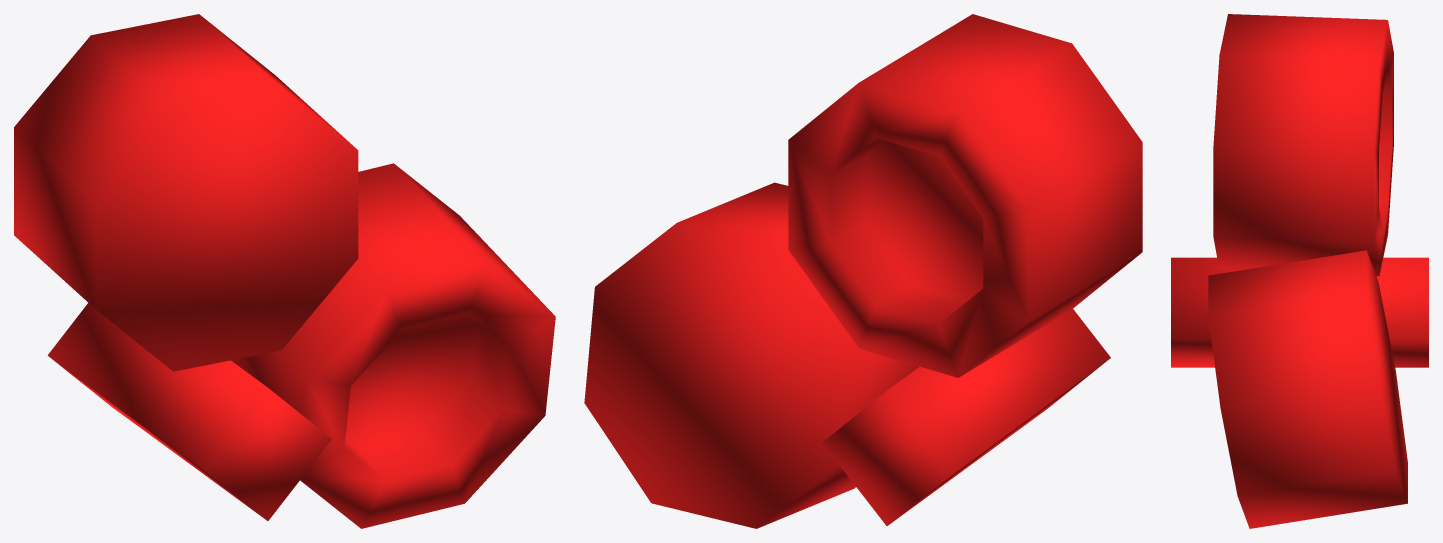
Rendered from Rubble02.FBX.
3 views of the same model, side by side, from view 1: azimuth 30°, elevation 25°; view 2: azimuth 150°, elevation 25°; view 3: azimuth 270°, elevation 25° (orthographic). The views are drawn at different scales.
Visible parts, largest first — view 1: 00_shild_01_013; view 2: 00_shild_01_013; view 3: 00_shild_01_013.
Boxes of the visible parts, x1,y1,x2,y2 form: 00_shild_01_013: [14, 14, 555, 528]; 00_shild_01_013: [584, 14, 1142, 528]; 00_shild_01_013: [1171, 14, 1428, 528].
Bounding box in the file's own units: 20.85 × 21.1 × 12.55.
Materials: 1 (1 with a texture image).
